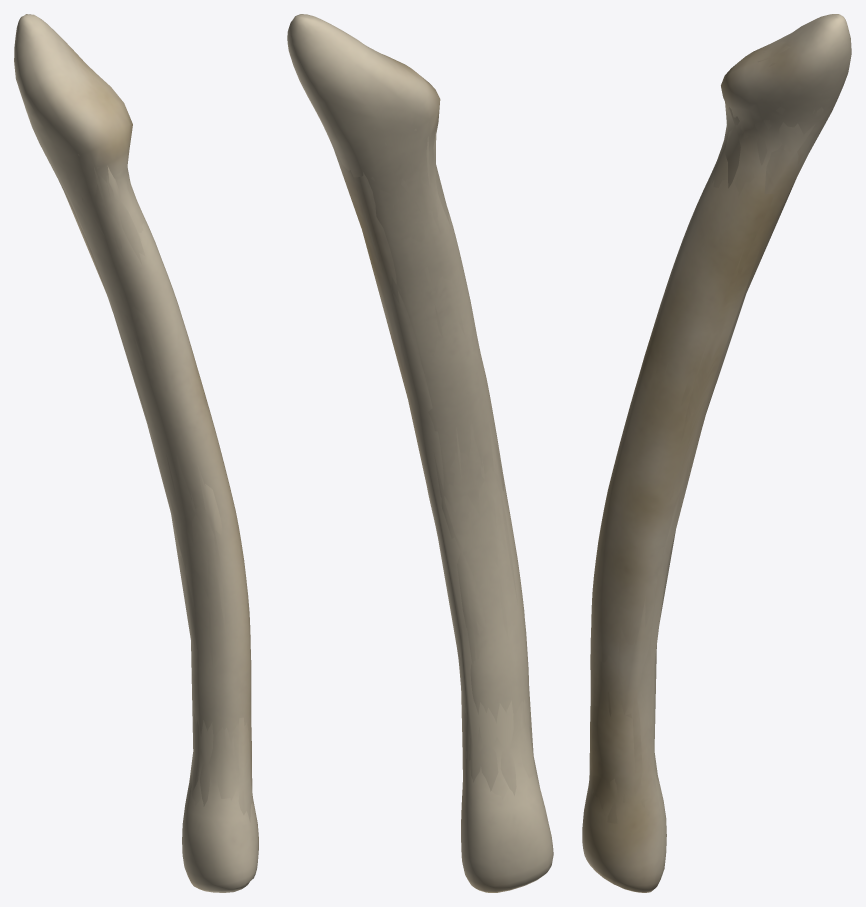
Rendered from R metatarsi quintum.fbx.
3 views of the same model, side by side, from view 1: azimuth 90°, elevation 25°; view 2: azimuth 150°, elevation 25°; view 3: azimuth 270°, elevation 25° (orthographic). The views are drawn at different scales.
Parts seen in each view (by area): view 1: R metatarsi quintum high, R metatarsi quintum low, R metatarsi quintum; view 2: R metatarsi quintum high, R metatarsi quintum low, R metatarsi quintum; view 3: R metatarsi quintum high, R metatarsi quintum low, R metatarsi quintum.
Part boxes in pixels (x1,y1,x2,y2): R metatarsi quintum high: (14,14,258,892); R metatarsi quintum low: (57,75,253,822); R metatarsi quintum: (33,23,254,807); R metatarsi quintum high: (287,14,553,892); R metatarsi quintum low: (329,56,539,795); R metatarsi quintum: (317,19,531,799); R metatarsi quintum high: (582,14,851,892); R metatarsi quintum low: (588,107,822,802); R metatarsi quintum: (587,15,829,823).
Size of the model in its own units: 3.22 by 18.37 by 4.9.
